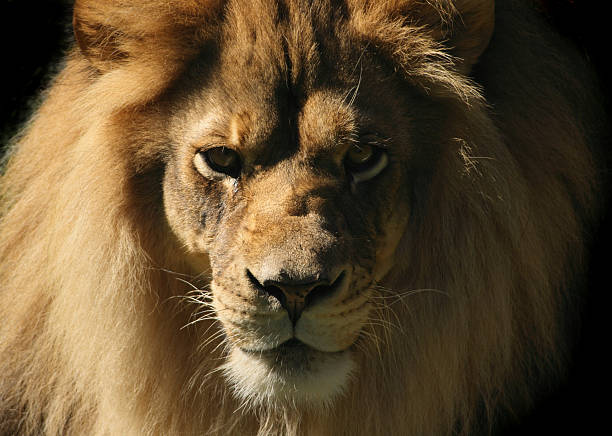lion: (5, 4, 596, 435)
